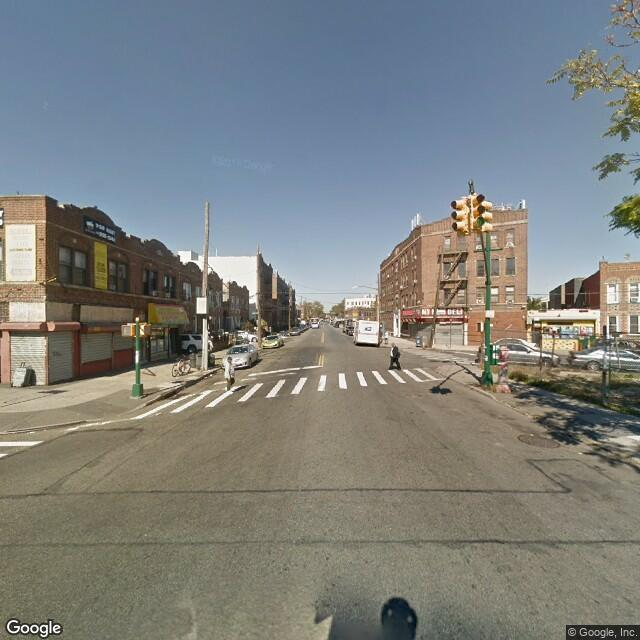litter: (202, 366, 223, 380)
